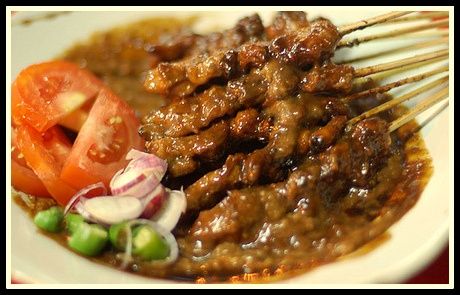sate_madura: (152, 12, 450, 233)
